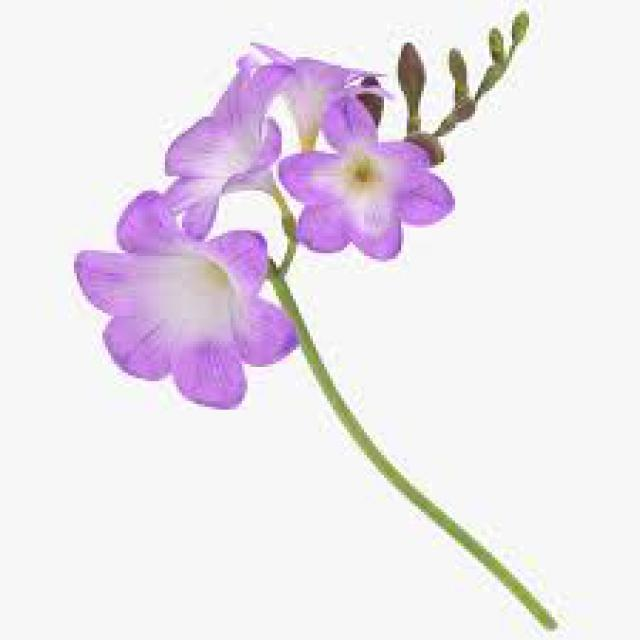freesia: (30, 9, 558, 436), (76, 197, 311, 426), (275, 95, 463, 261), (139, 55, 281, 231)
